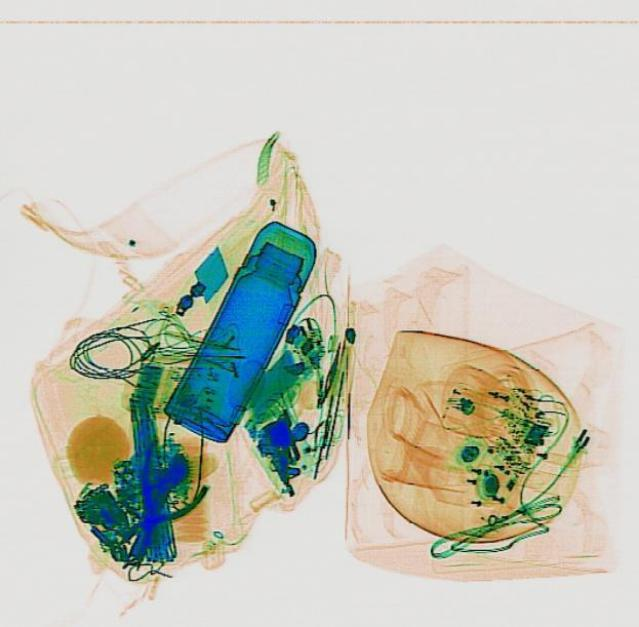Pliers: (87, 435, 219, 571)
